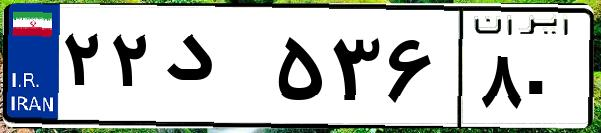0: (525, 38, 570, 115)
2: (57, 26, 110, 100), (110, 28, 158, 98)
3: (330, 28, 385, 110)
5: (270, 28, 330, 110)
6: (385, 28, 445, 110)
8: (475, 38, 525, 113)
د: (158, 20, 270, 120)
